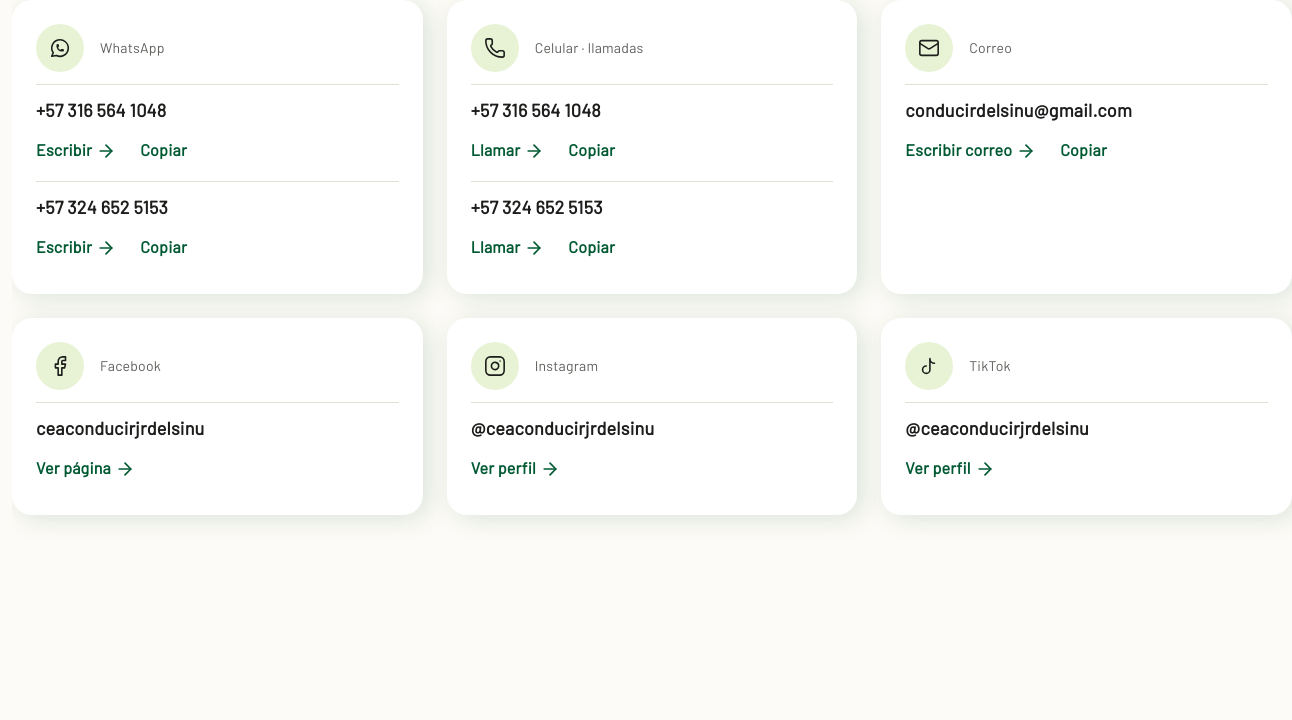
Scenario: ContactChannelGrid › cada dato con su acción; "Copiar" copia y lo anuncia
The image size is (1292, 720).
Expected: the text "conducirdelsinu@gmail.com" is shown, [905, 97, 1132, 125]
Click the button with aria-label "Copiar conducirdelsinu@gmail.com" at (1084, 151), box [1060, 129, 1107, 173]
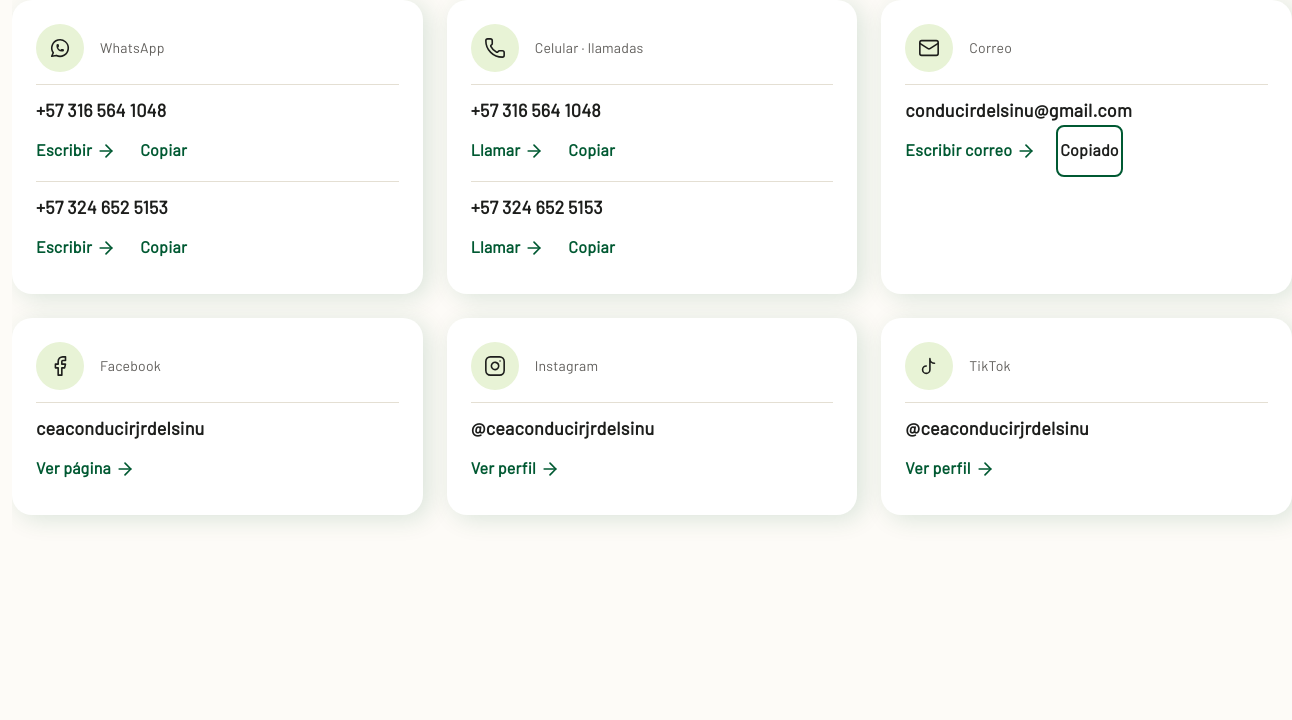
Now the button with aria-label "Copiar conducirdelsinu@gmail.com" reads "Copiado", box [1060, 129, 1119, 173]
